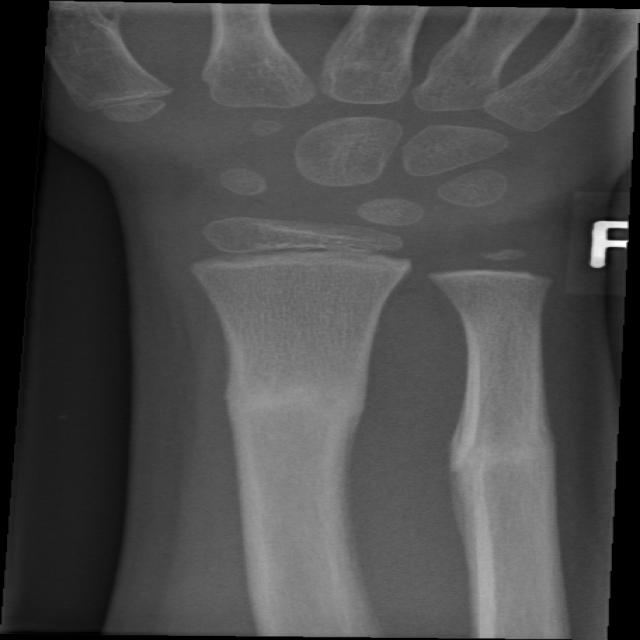radius fracture: (189, 338, 417, 521)
ulna fracture: (408, 372, 586, 595)
